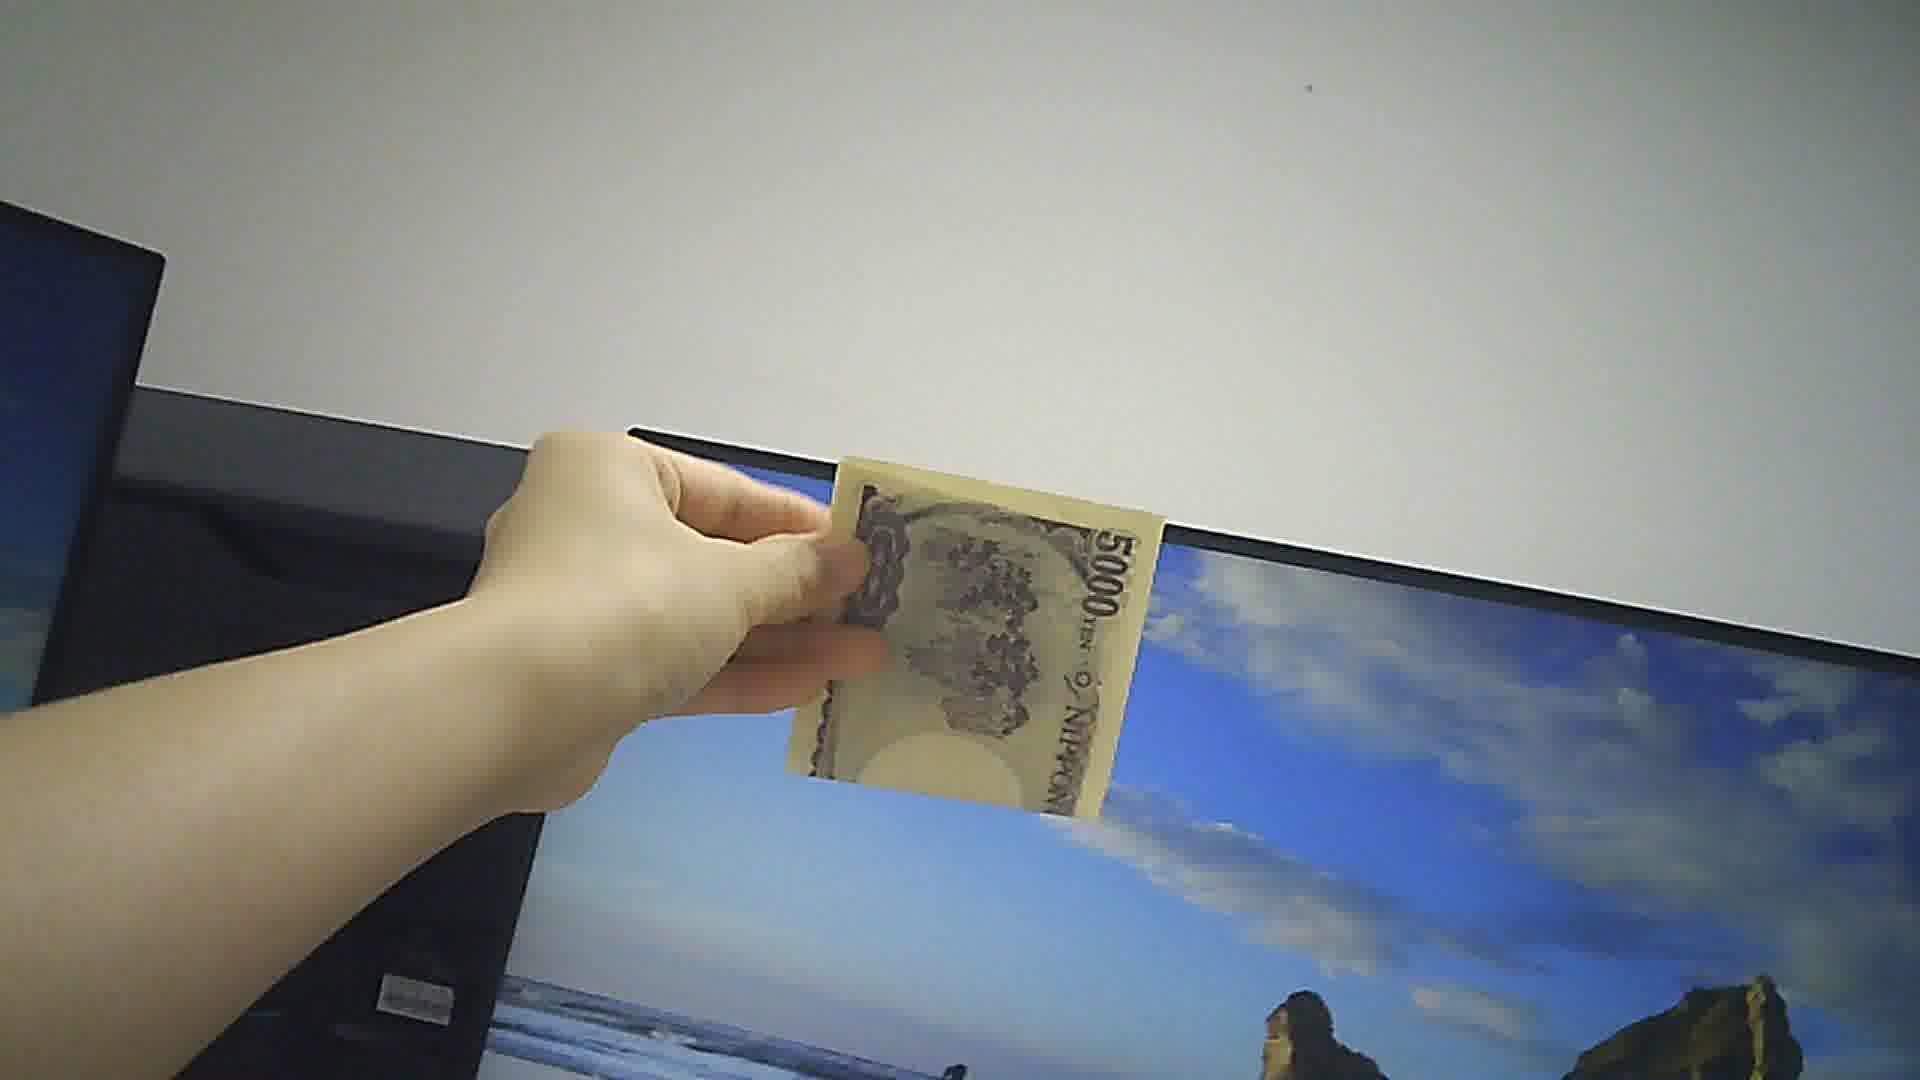5,000 Yen: (800, 455, 1183, 827)
